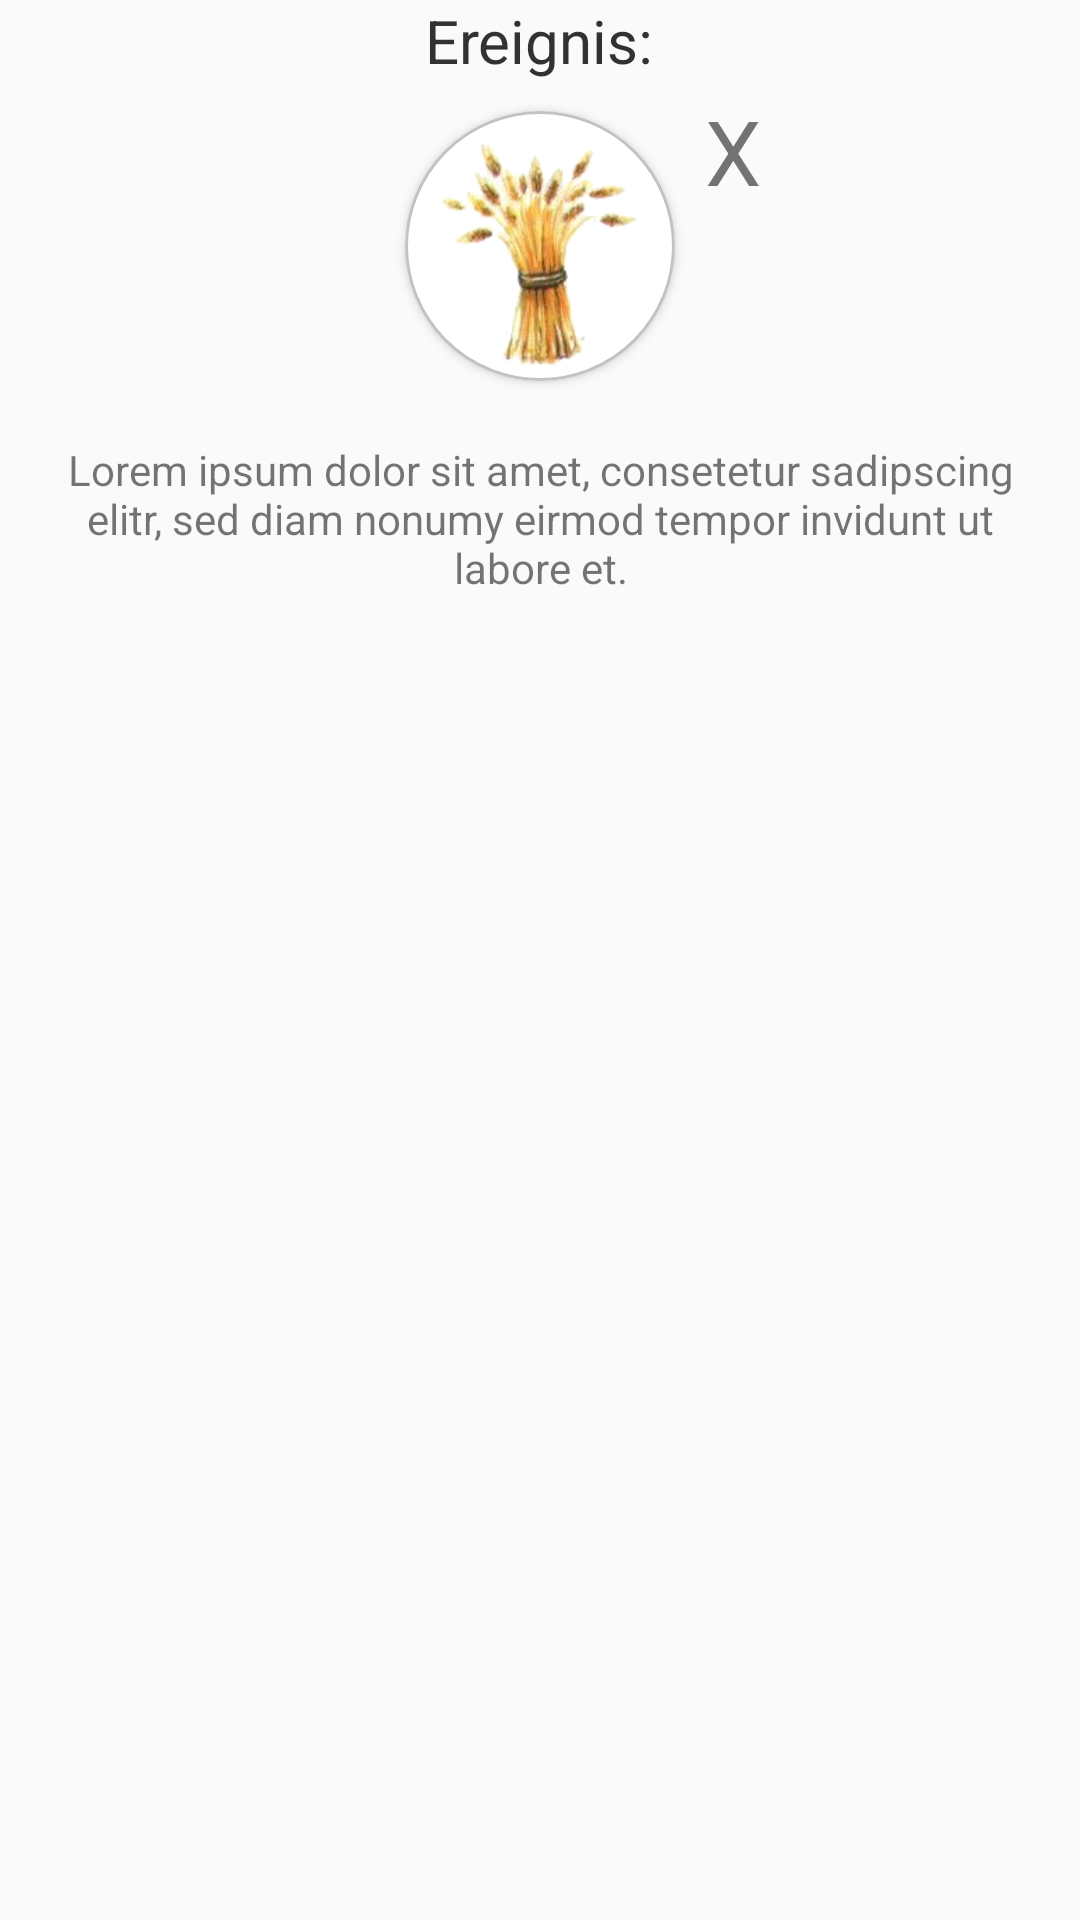

Where icons sit on this 1080px×1920px app screen, as (x1, y1, x2, y2):
grain: (405, 111, 675, 381)
